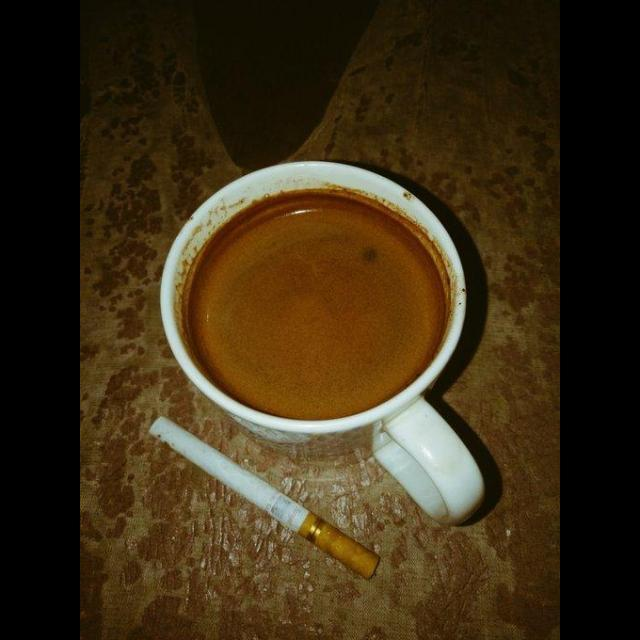rokok: (144, 409, 388, 587)
